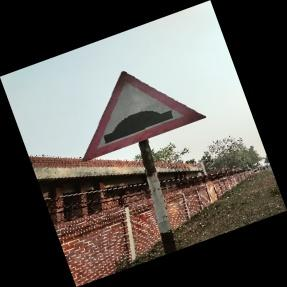Speed-breaker: (81, 71, 206, 161)
